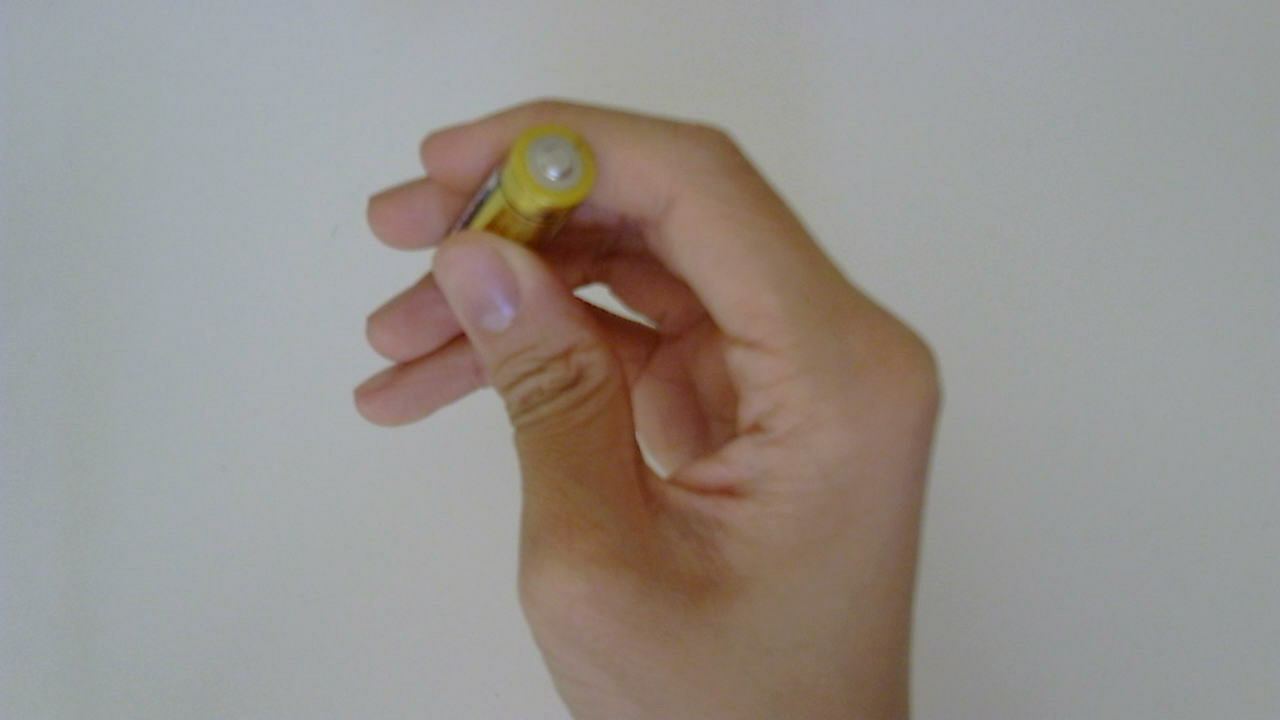Battery: (440, 122, 602, 269)
